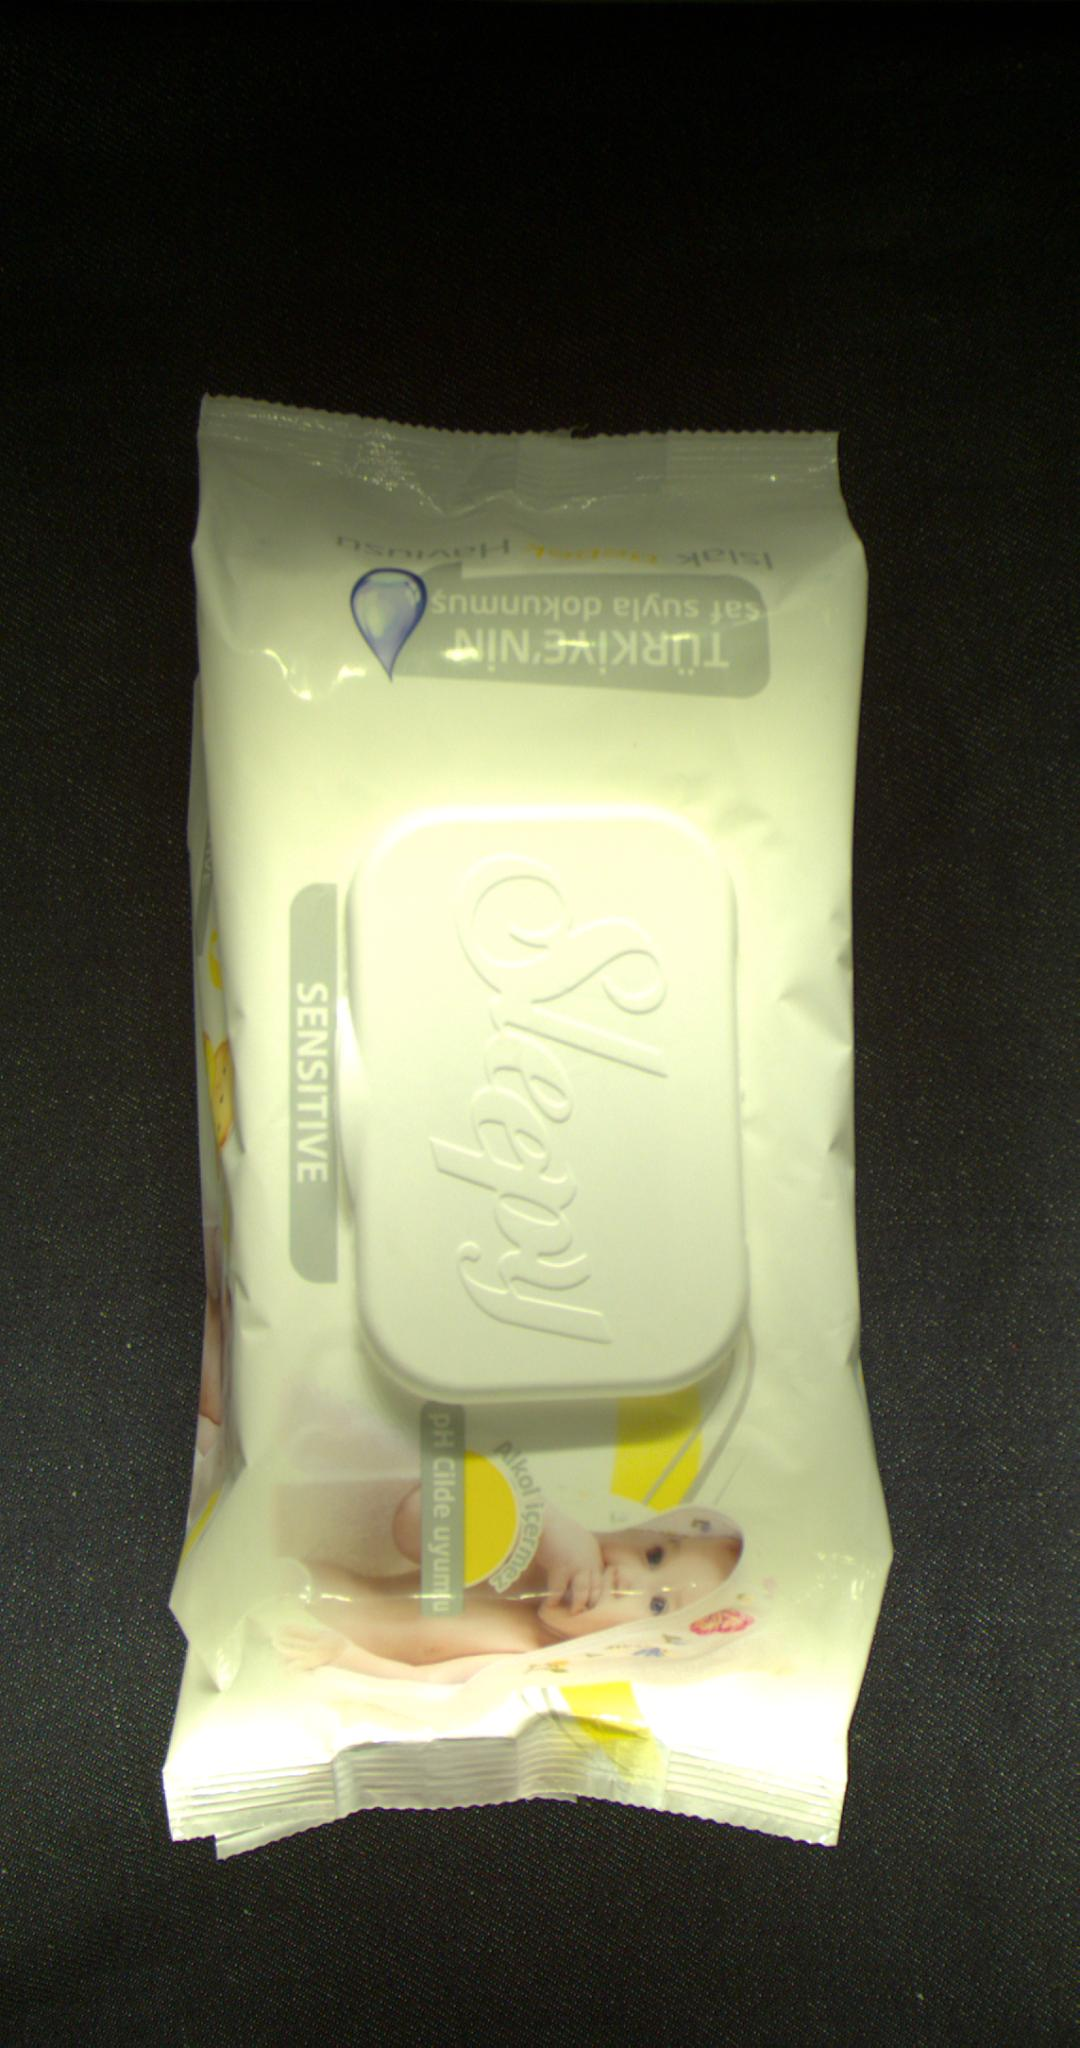kapak: (336, 803, 757, 1405)
